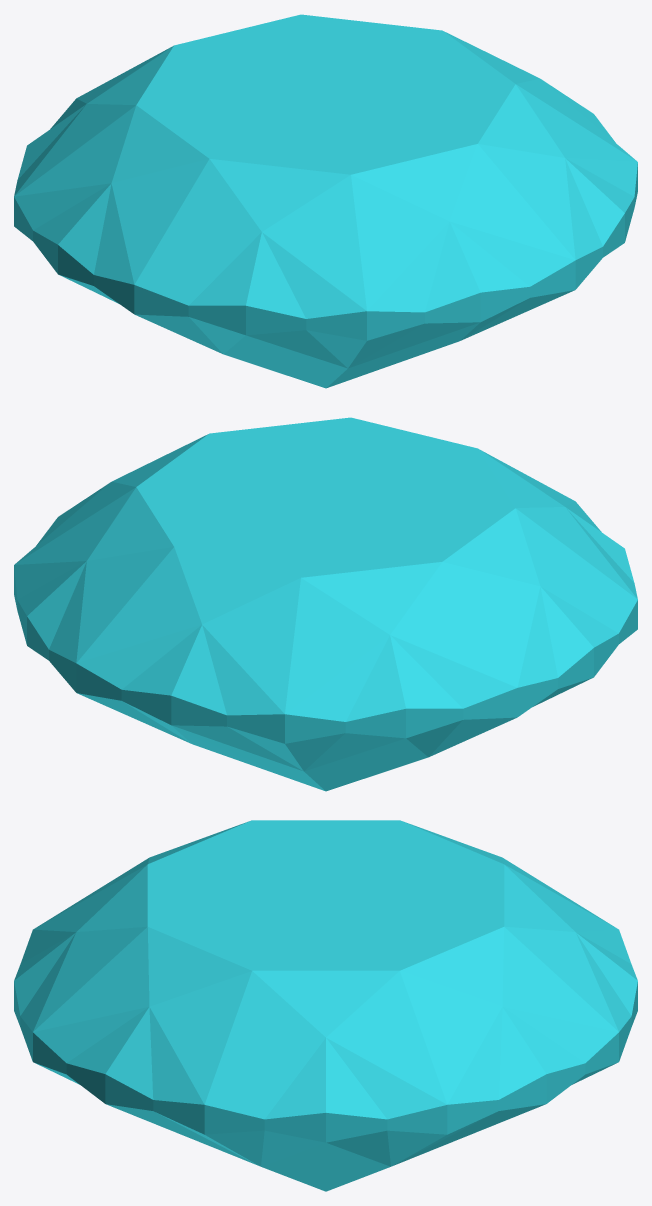
The model's file is diamond.fbx.
3 views of the same model, one above another, from view 1: azimuth 30°, elevation 25°; view 2: azimuth 150°, elevation 25°; view 3: azimuth 270°, elevation 25° (orthographic).
Parts seen in each view (by area): view 1: diamond; view 2: diamond; view 3: diamond.
Part boxes in pixels (x1,y1,x2,y2): diamond: [14, 14, 637, 388]; diamond: [14, 417, 637, 791]; diamond: [14, 820, 637, 1191].
Size of the model in its own units: 18.95 by 9.93 by 18.95.
